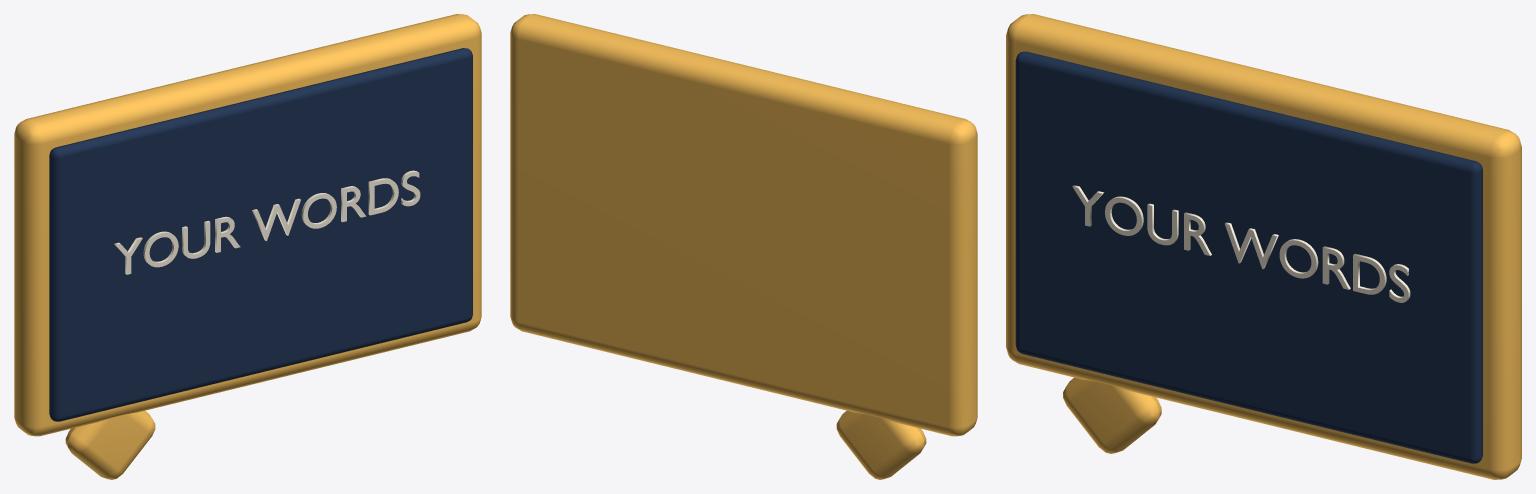
File: EDU003.glb
3 views of the same model, side by side, from view 1: azimuth 30°, elevation 25°; view 2: azimuth 150°, elevation 25°; view 3: azimuth 330°, elevation 25° (orthographic). The views are drawn at different scales.
Visible parts, largest first — view 1: Editable_panel, Frame, Editable_text_GLB_mesh, Speech_tail; view 2: Frame, Speech_tail; view 3: Editable_panel, Frame, Editable_text_GLB_mesh, Speech_tail.
Boxes of the visible parts, bbox=[...] form: Editable_panel: bbox=[49, 48, 472, 421]; Frame: bbox=[14, 14, 481, 436]; Editable_text_GLB_mesh: bbox=[114, 170, 420, 274]; Speech_tail: bbox=[65, 410, 155, 479]; Frame: bbox=[510, 14, 977, 436]; Speech_tail: bbox=[836, 410, 926, 479]; Editable_panel: bbox=[1015, 51, 1482, 463]; Frame: bbox=[1006, 14, 1521, 479]; Editable_text_GLB_mesh: bbox=[1072, 185, 1410, 302]; Speech_tail: bbox=[1063, 377, 1161, 453].
Size of the model in its own units: 2 by 1.57 by 0.236.
